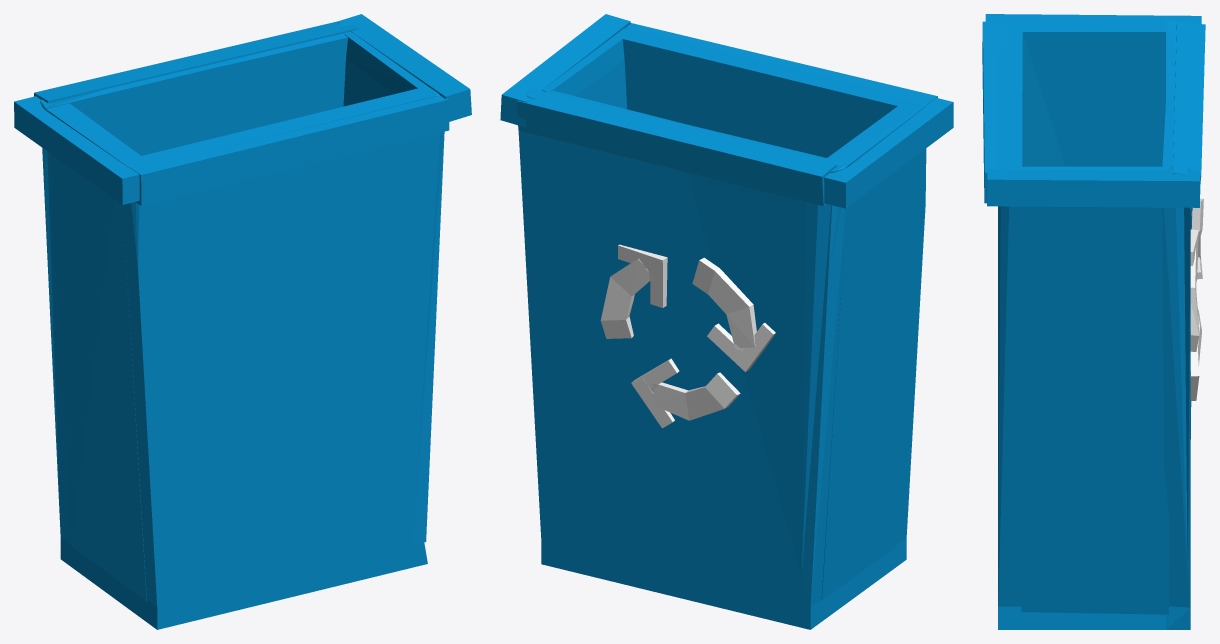
File: Bin2.glb
The picture shows the model from 3 angles, left to right: view 1: azimuth 30°, elevation 25°; view 2: azimuth 150°, elevation 25°; view 3: azimuth 270°, elevation 25°; orthographic projection.
Parts seen in each view (by area): view 1: group1523795269, group829613575, group954169556, group515251814, group1693213889, group833150488, group667218477, group40664415, group1135330545, group1099556843, group1680229828; view 2: group1693213889, group833150488, group954169556, group1135330545, group1523795269, group829613575, group667218477, group40664415, group221106625, group1676483644, group1652268458, group1099556843 (+2 smaller); view 3: group1680229828, group954169556, group829613575, group833150488, group1099556843, group1135330545, group667218477, group515251814, group1523795269, group40664415, group1676483644, group1693213889 (+2 smaller).
Part boxes in pixels (<box>): group1523795269: <box>120,122,292,607</box>; group829613575: <box>280,86,444,574</box>; group954169556: <box>46,103,146,601</box>; group515251814: <box>128,95,449,205</box>; group1693213889: <box>40,66,208,543</box>; group833150488: <box>204,23,351,139</box>; group667218477: <box>60,537,427,629</box>; group40664415: <box>14,96,139,204</box>; group1135330545: <box>34,21,359,103</box>; group1099556843: <box>337,14,471,121</box>; group1680229828: <box>343,33,426,106</box>; group1693213889: <box>676,125,849,607</box>; group833150488: <box>518,90,687,574</box>; group954169556: <box>821,106,919,600</box>; group1135330545: <box>517,88,836,206</box>; group1523795269: <box>760,63,926,544</box>; group829613575: <box>614,28,771,142</box>; group667218477: <box>541,537,906,629</box>; group40664415: <box>824,98,953,208</box>; group221106625: <box>692,257,775,371</box>; group1676483644: <box>600,244,667,338</box>; group1652268458: <box>631,358,740,428</box>; group1099556843: <box>500,14,630,127</box>; group1680229828: <box>1021,166,1170,614</box>; group954169556: <box>1022,20,1165,166</box>; group829613575: <box>998,99,1022,606</box>; group833150488: <box>1162,99,1190,607</box>; group1099556843: <box>986,169,1200,207</box>; group1135330545: <box>1172,22,1205,183</box>; group667218477: <box>998,606,1190,629</box>; group515251814: <box>982,21,1007,203</box>; group1523795269: <box>998,21,1022,99</box>; group40664415: <box>985,14,1201,23</box>; group1676483644: <box>1190,229,1199,351</box>; group1693213889: <box>1166,20,1192,438</box>.
Bounding box in the file's own units: 0.9835 × 1.26 × 0.5445.
